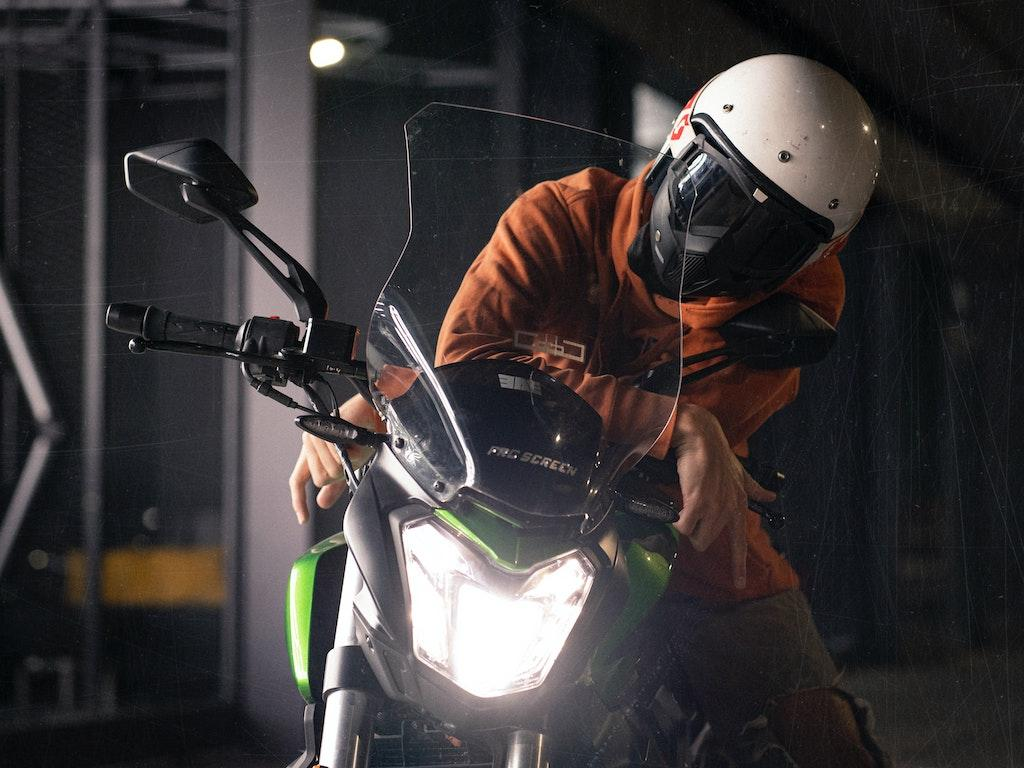helmet: (641, 52, 883, 300)
